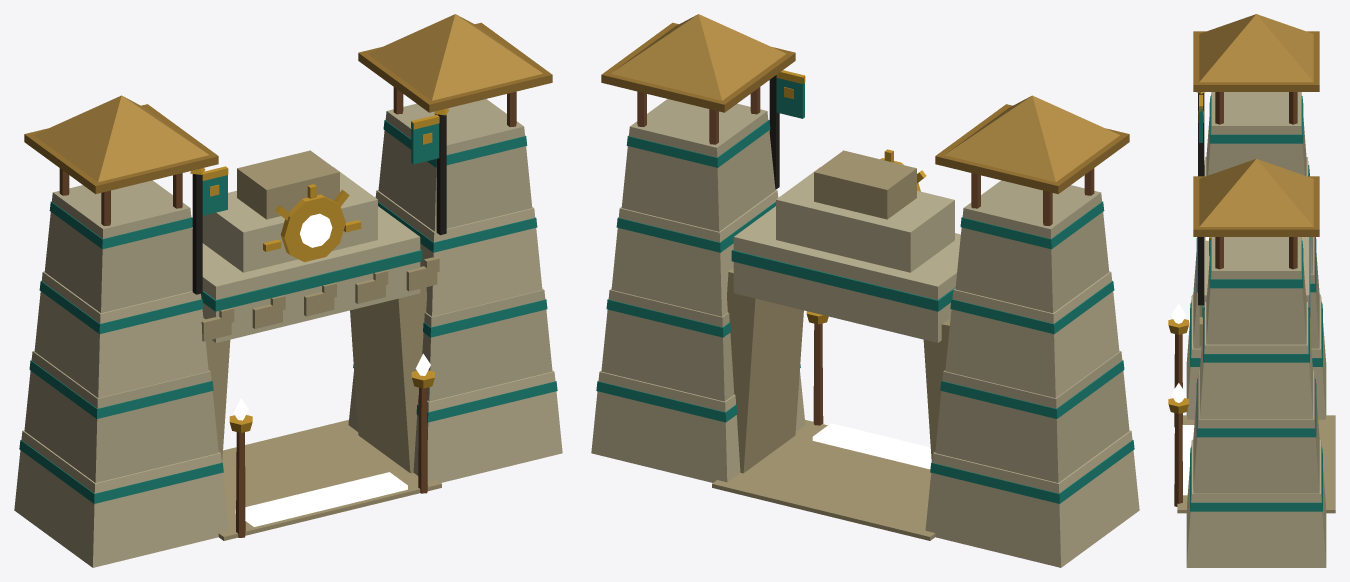
The model's file is gate_t3.glb.
3 renders of one model, left to right at view 1: azimuth 30°, elevation 25°; view 2: azimuth 150°, elevation 25°; view 3: azimuth 270°, elevation 25°, orthographic. The views are drawn at different scales.
Visible parts, largest first — view 1: body, glow; view 2: body, glow; view 3: body, glow.
Part boxes in pixels (x1,y1,x2,y2): body: (14,14,562,567); glow: (233,213,430,526); body: (591,14,1139,567); glow: (812,423,931,469); body: (1168,14,1335,567); glow: (1171,237,1208,495).
Bounding box in the file's own units: 3.66 × 3.19 × 1.27.
